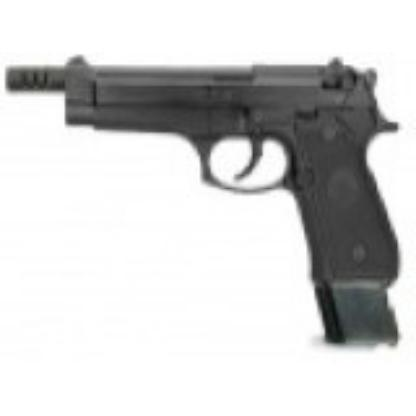gun: (0, 54, 406, 350)
